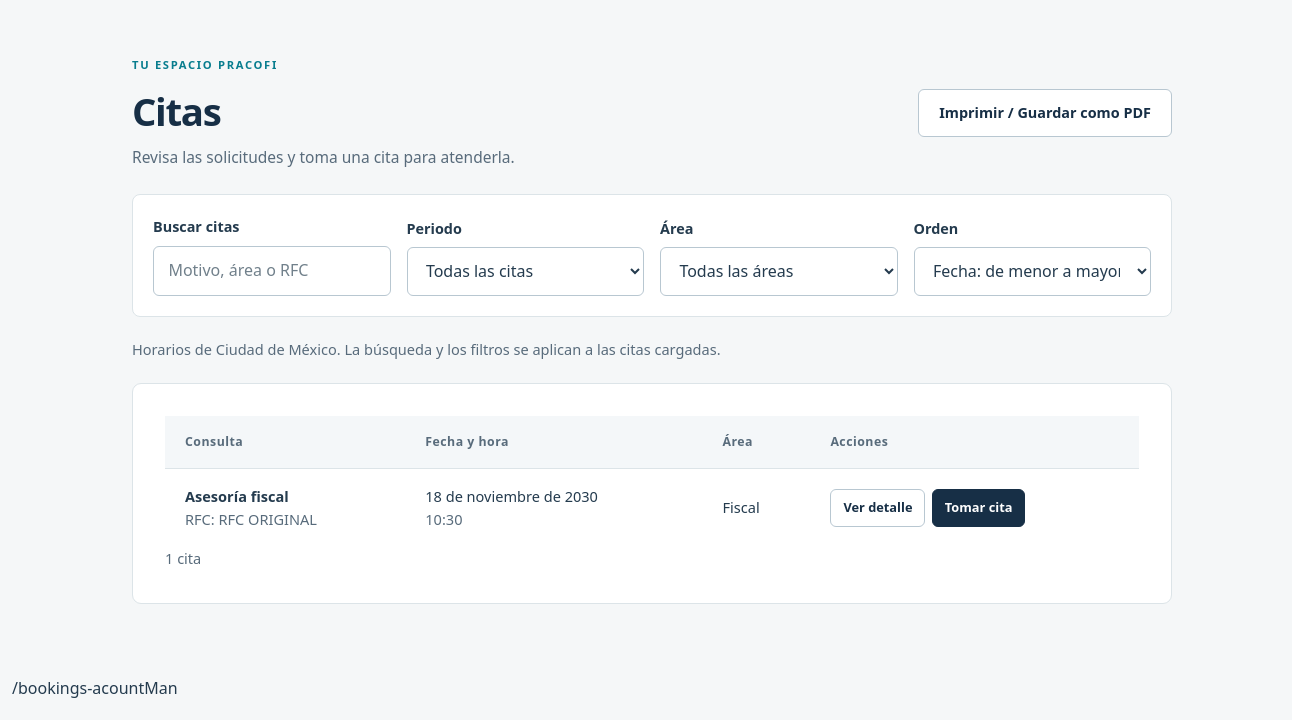
Scenario: booking lists › shows rejected assignment as failure and refreshes the list after a successful retry
What coordinates should you click on to do the following:
click the button with aria-label "Tomar cita: Asesoría fiscal"
I would click on:
 (979, 508)
Its box is x1=932 y1=489 x2=1025 y2=527.
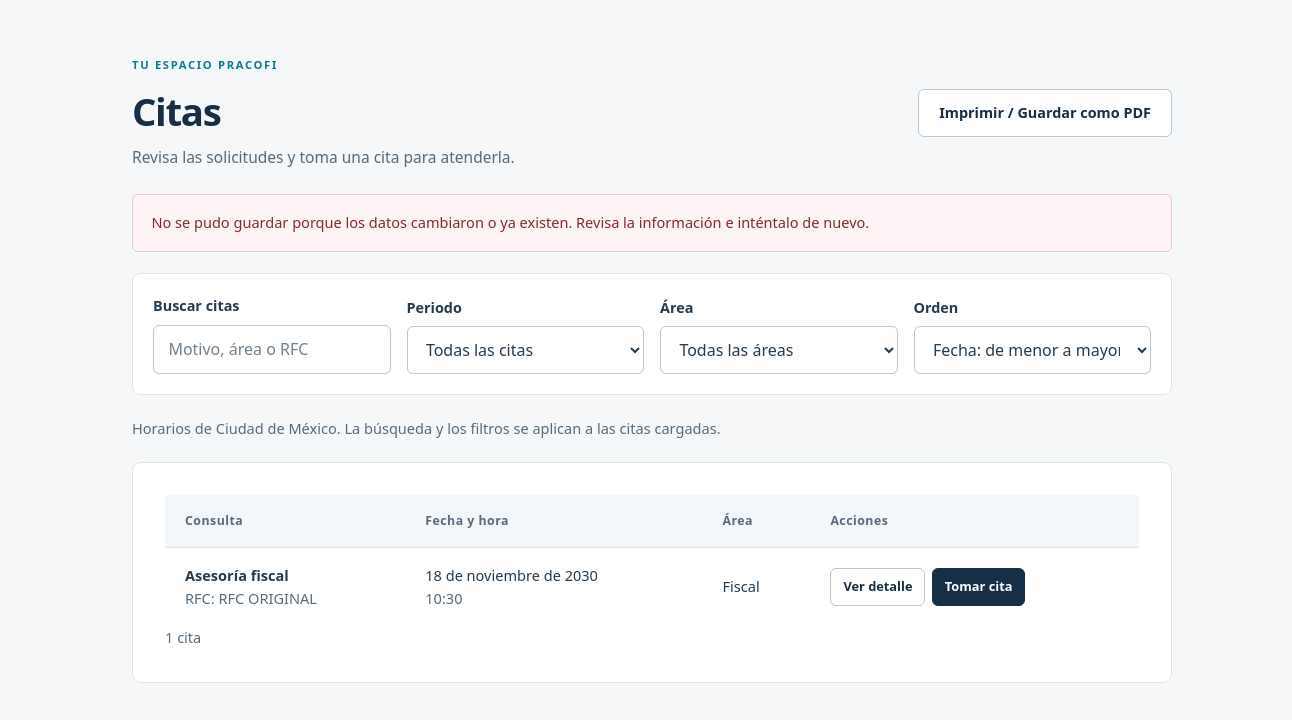
expect the text "se asignó correctamente" is not shown: met
expect the message shows "datos cambiaron": met, box x1=151 y1=212 x2=869 y2=232
What coordinates should you click on to do the following:
click the button with aria-label "Tomar cita: Asesoría fiscal"
I would click on:
 (979, 587)
Its box is x1=932 y1=568 x2=1025 y2=606.
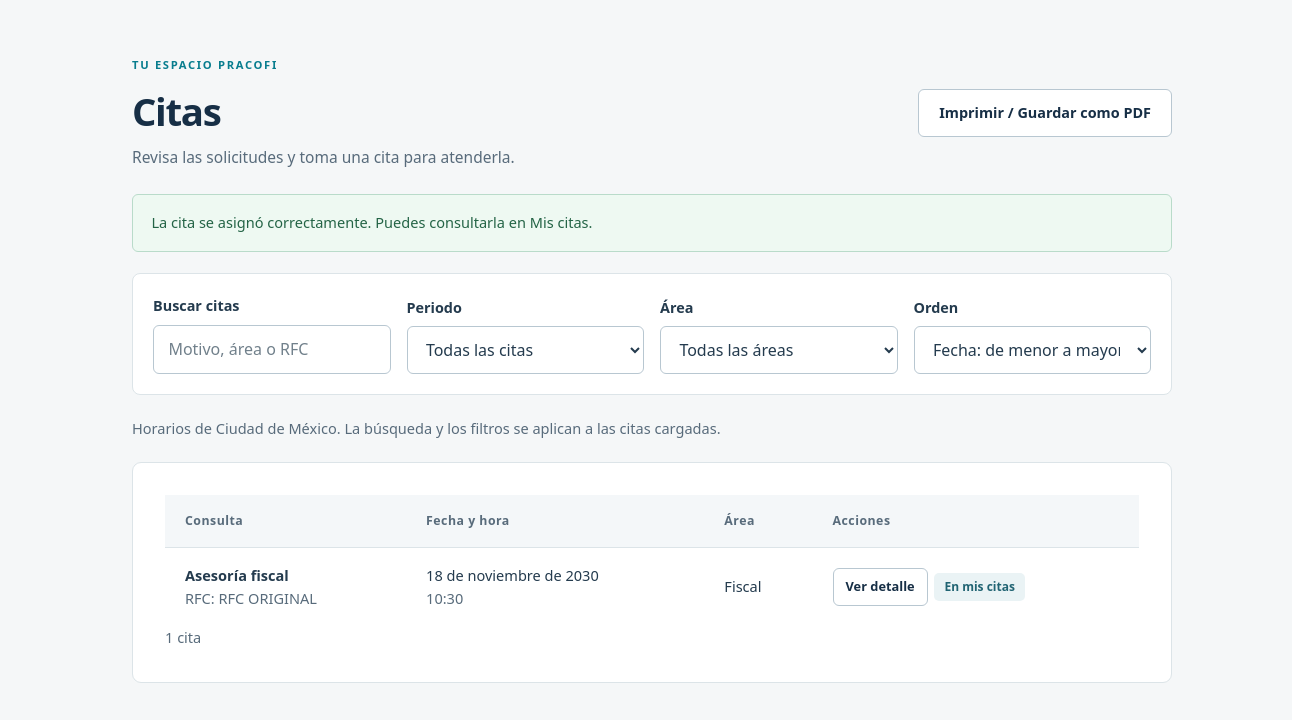
expect the text "En mis citas" is shown: met, box x1=934 y1=573 x2=1025 y2=600
